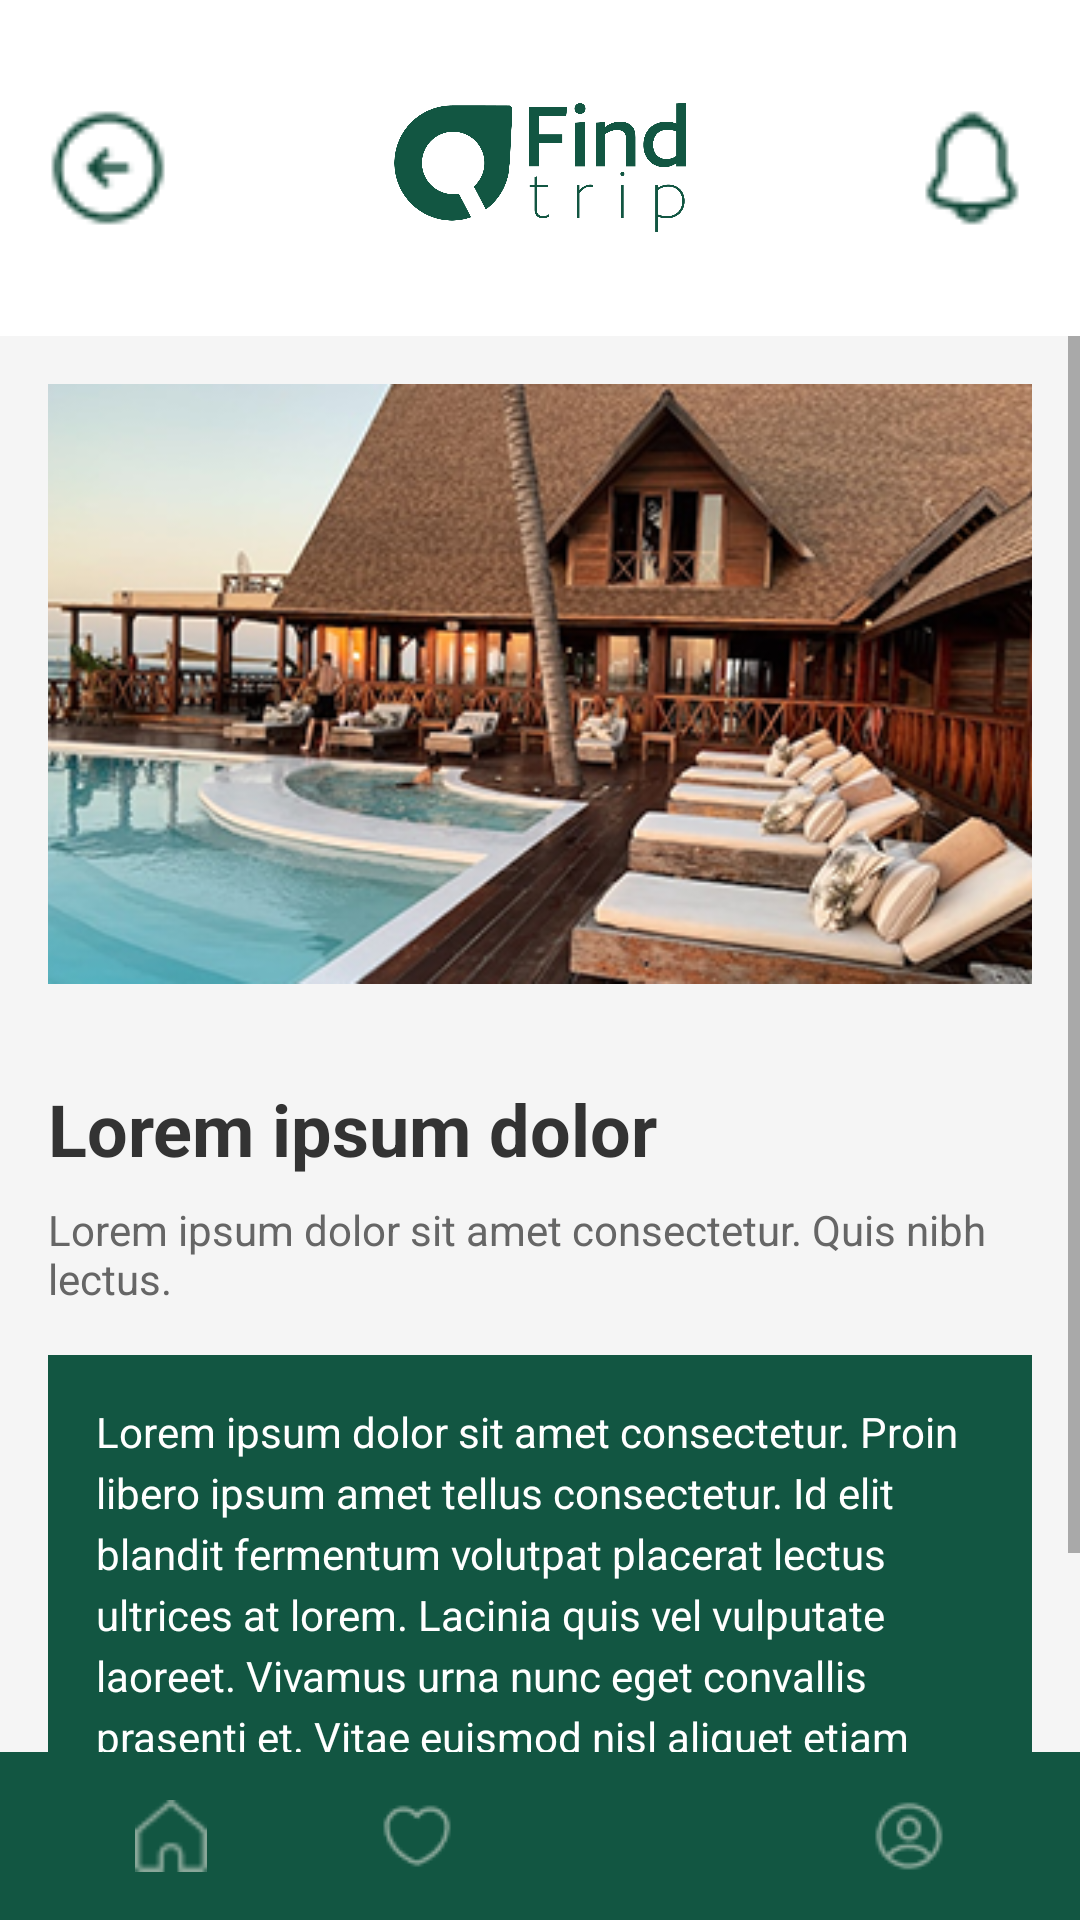

Icons on this 1080 x 1920 Android screen, each with its box as (x1, y1, x2, y2):
back: (51, 111, 165, 225)
favorite: (383, 1805, 451, 1866)
home: (135, 1800, 207, 1872)
notification: (925, 111, 1019, 225)
profile: (875, 1802, 943, 1870)
